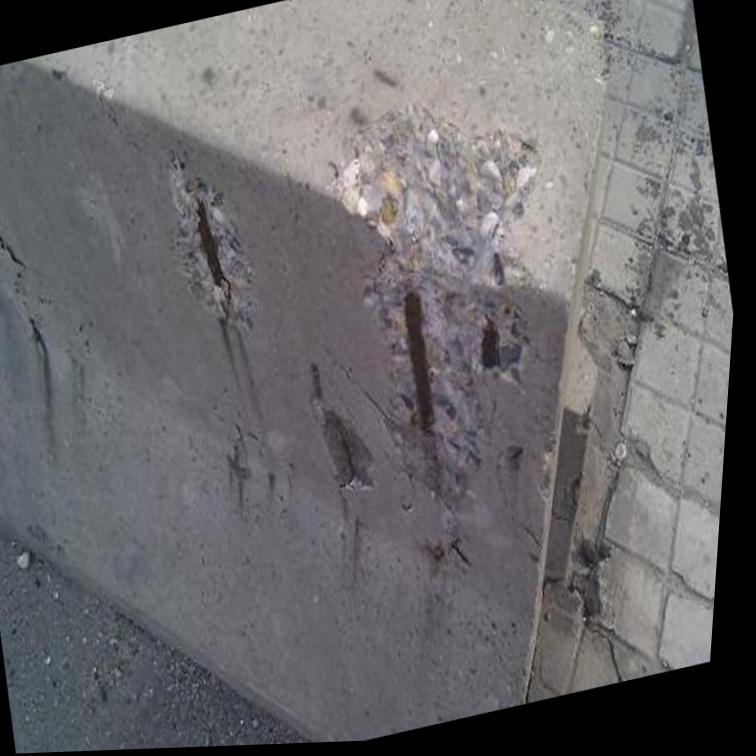crack: (593, 626, 635, 688), (0, 226, 31, 302), (30, 319, 56, 392), (365, 388, 406, 429), (346, 432, 372, 490)
damage: (351, 102, 544, 542), (172, 159, 260, 331), (314, 361, 389, 497)
